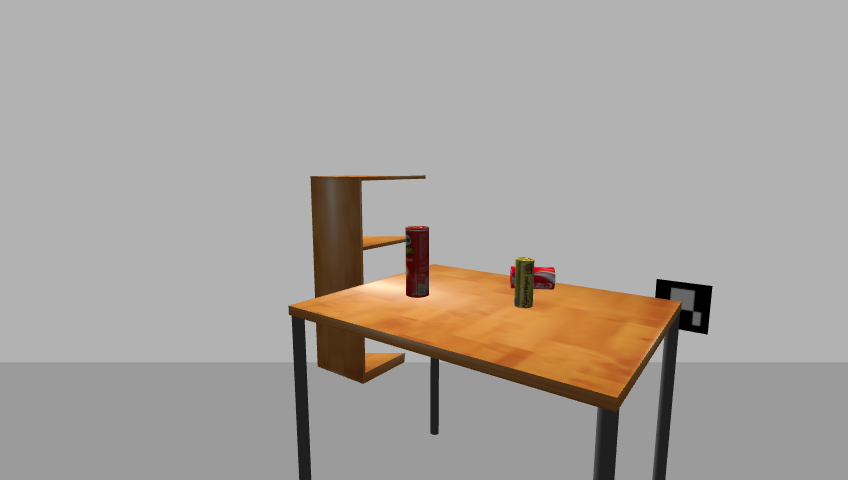aruco marker: (650, 277, 717, 336)
biscuits pack: (513, 258, 534, 309)
bookshelf: (305, 171, 431, 390)
coke can: (507, 267, 557, 289)
dinner table: (282, 265, 692, 480)
pringles can: (403, 226, 431, 300)
